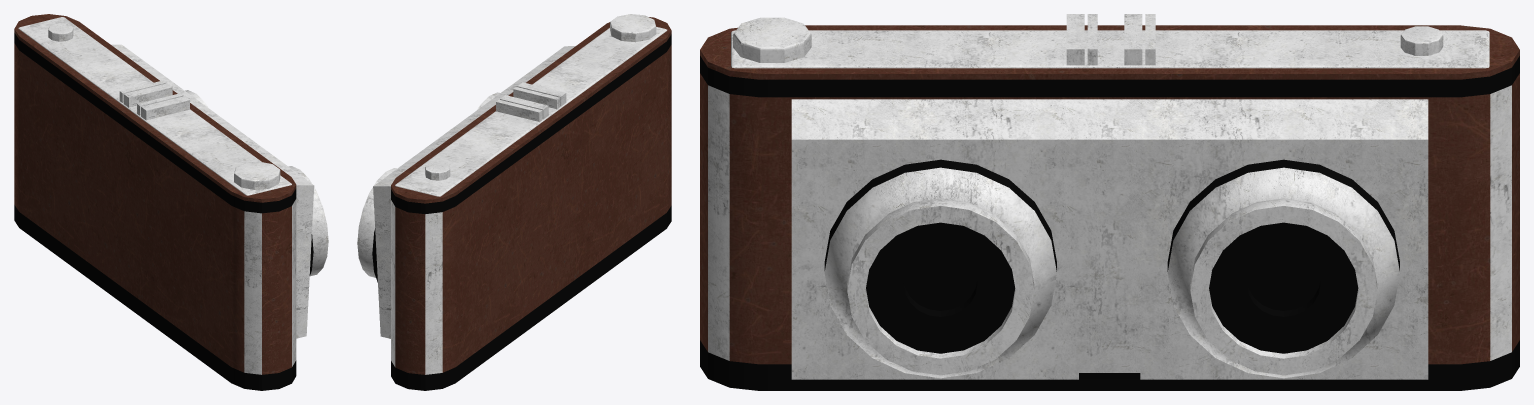
The model's file is Camera.glb.
The picture shows the model from 3 angles, left to right: view 1: azimuth 30°, elevation 25°; view 2: azimuth 150°, elevation 25°; view 3: azimuth 270°, elevation 25°; orthographic projection. The views are drawn at different scales.
Visible parts, largest first — view 1: cam5_export; view 2: cam5_export; view 3: cam5_export.
Boxes of the visible parts, x1,y1,x2,y2 form: cam5_export: [14, 14, 328, 390]; cam5_export: [357, 14, 671, 390]; cam5_export: [700, 14, 1519, 390].
Bounding box in the file's own units: 0.2303 × 0.3599 × 0.798.
Materials: 3 (2 with a texture image).
